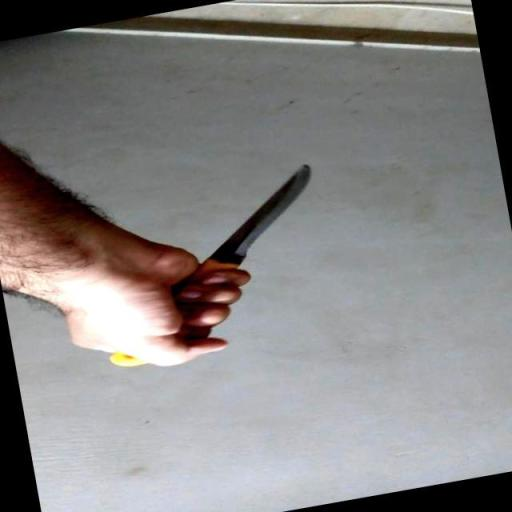knife: (80, 159, 344, 370)
